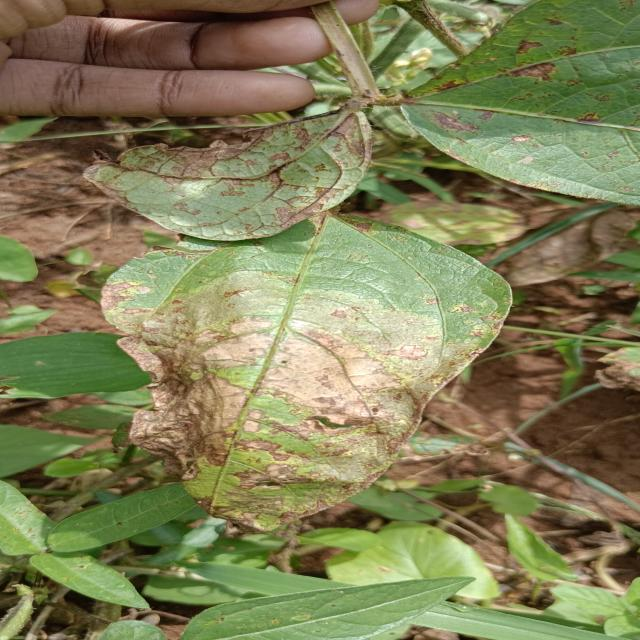Black gram_leaf spot: (98, 214, 512, 530), (380, 0, 640, 202), (77, 101, 367, 237)
